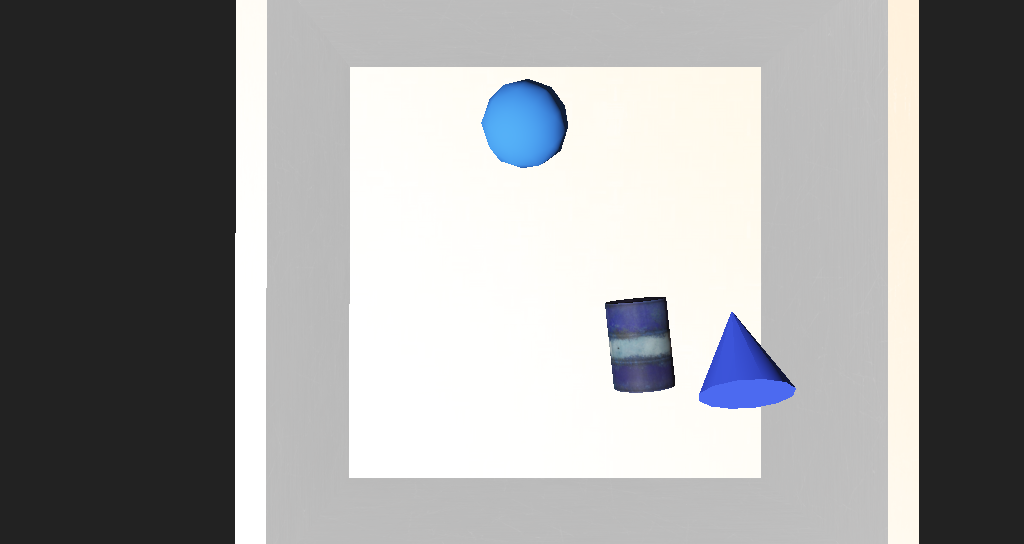cone: (539, 282, 593, 329)
cylinder: (603, 277, 677, 344)
sphere: (455, 174, 515, 217)
